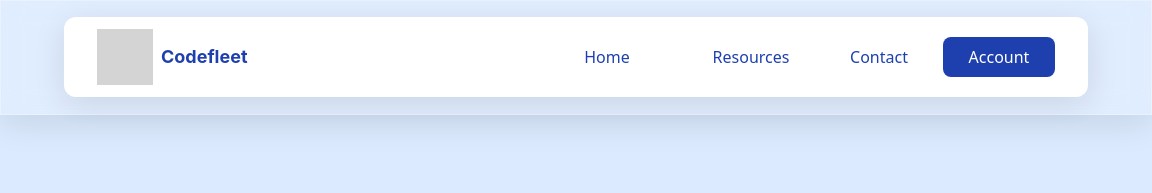
it: Header Component › renders Account button with Sign In and Sign Up when not logged in
The width and height of the screenshot is (1152, 193).
# Click to open dropdown
Step 1. Click the button "Account" → {"x": 999, "y": 57}, box top-left (943, 37), bottom-right (1055, 77)
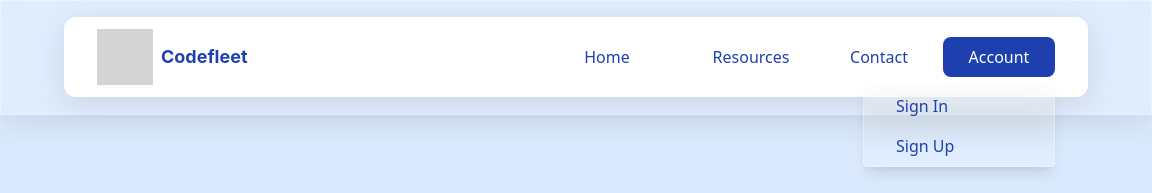
Expected: the link "Sign In" is shown, top-left (896, 95), bottom-right (948, 117)
Expected: the link "Sign Up" is shown, top-left (896, 135), bottom-right (954, 157)
